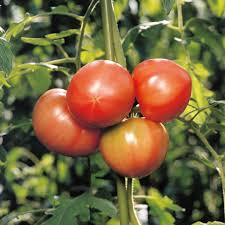tomato: (31, 87, 100, 159), (68, 59, 135, 128), (98, 118, 169, 177), (129, 57, 191, 124)
